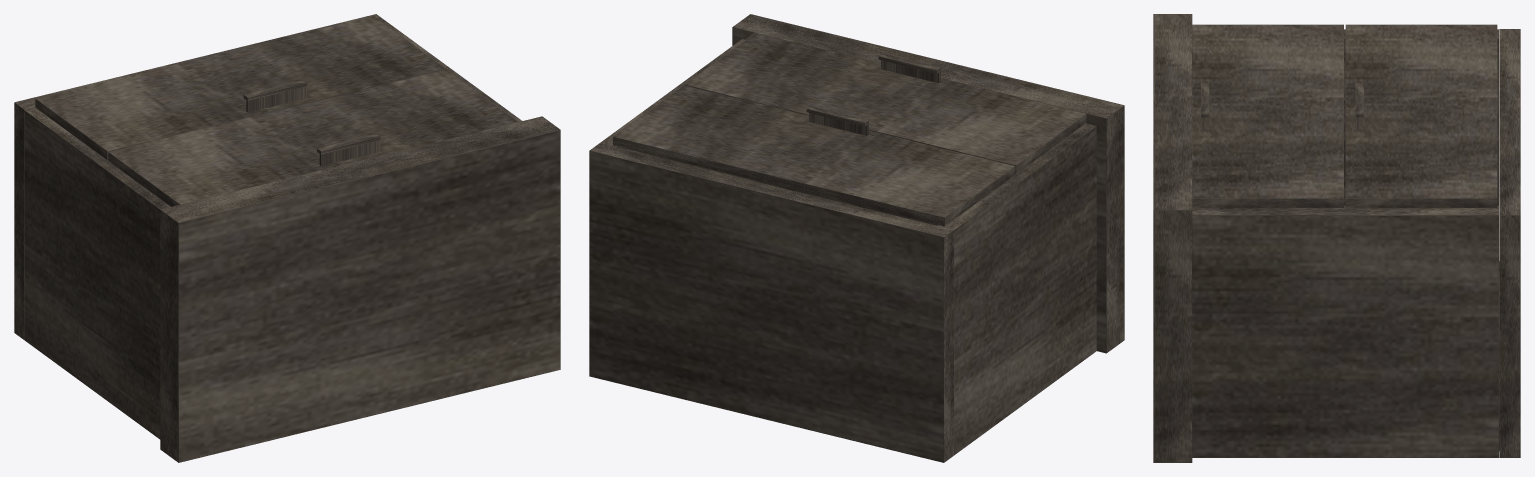
The model's file is nightstand_wtf.obj.
The picture shows the model from 3 angles, left to right: view 1: azimuth 30°, elevation 25°; view 2: azimuth 150°, elevation 25°; view 3: azimuth 270°, elevation 25°; orthographic projection. The views are drawn at different scales.
Parts seen in each view (by area): view 1: group10, group2, group7, group6, group3, group8, group9, group5; view 2: group3, group2, group7, group6, group10, group8, group9, group5; view 3: group5, group7, group6, group10, group3, group2.
Boxes of the visible parts, x1=… form: group10: x1=160, y1=116, x2=560, y2=462; group2: x1=24, y1=107, x2=170, y2=439; group7: x1=35, y1=16, x2=446, y2=160; group6: x1=108, y1=69, x2=518, y2=206; group3: x1=14, y1=14, x2=386, y2=339; group8: x1=317, y1=134, x2=380, y2=166; group9: x1=243, y1=80, x2=307, y2=112; group5: x1=383, y1=21, x2=521, y2=121; group3: x1=589, y1=143, x2=953, y2=462; group2: x1=937, y1=123, x2=1096, y2=455; group7: x1=613, y1=85, x2=1015, y2=226; group6: x1=684, y1=33, x2=1086, y2=173; group10: x1=732, y1=14, x2=1124, y2=353; group8: x1=878, y1=53, x2=940, y2=83; group9: x1=806, y1=106, x2=868, y2=135; group5: x1=599, y1=39, x2=759, y2=182; group5: x1=1192, y1=206, x2=1498, y2=457; group7: x1=1345, y1=24, x2=1497, y2=207; group6: x1=1192, y1=24, x2=1343, y2=207; group10: x1=1153, y1=14, x2=1192, y2=462; group3: x1=1499, y1=29, x2=1520, y2=457; group2: x1=1344, y1=29, x2=1498, y2=205.
Bounding box in the file's own units: 660 × 420 × 522.
